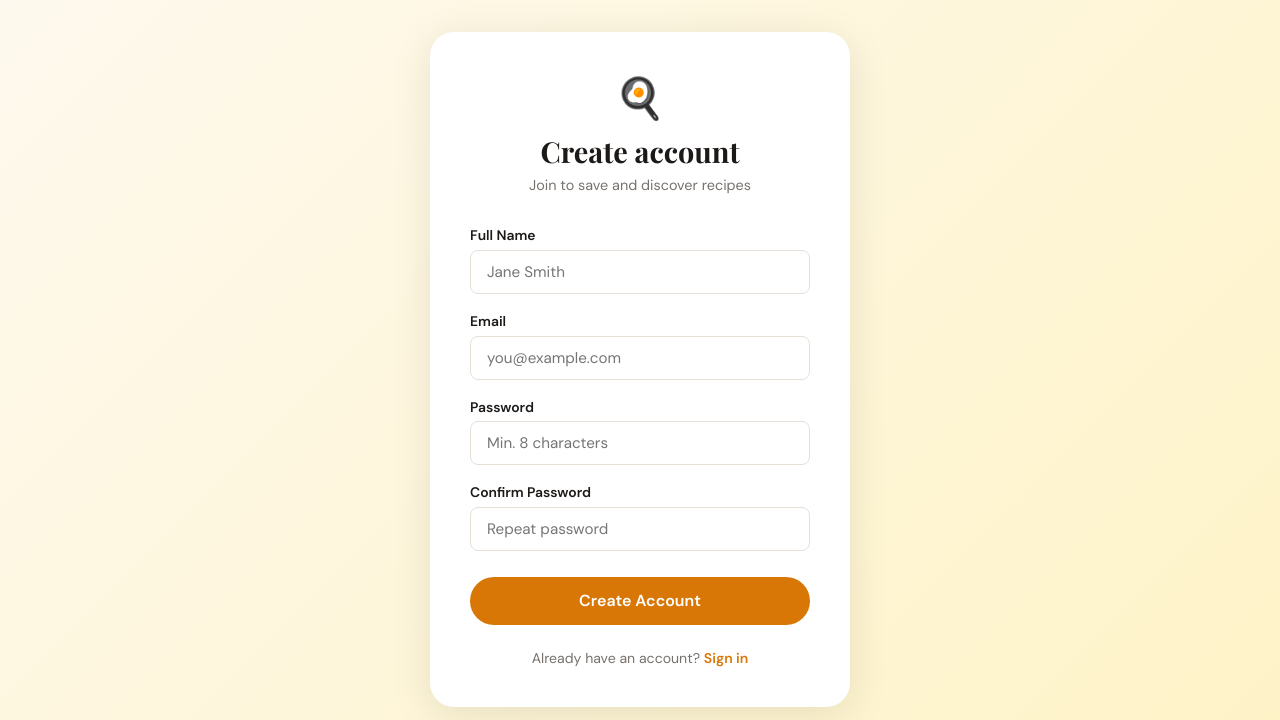
Test: Register Form › shows validation errors when passwords do not match
In the field labelled "Full Name": point(640, 272) x1=470 y1=250 x2=810 y2=294, type "Test"
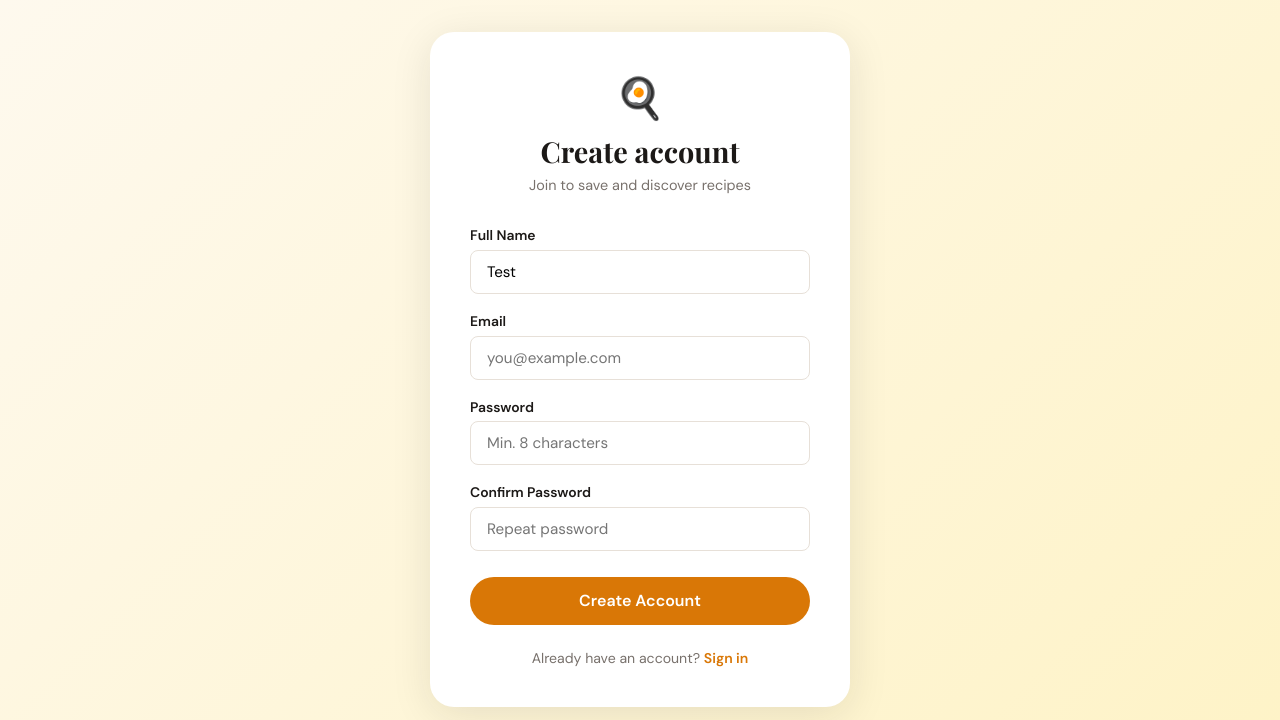
In the field labelled "Email": point(640, 358) x1=470 y1=336 x2=810 y2=380, type "test@test.com"
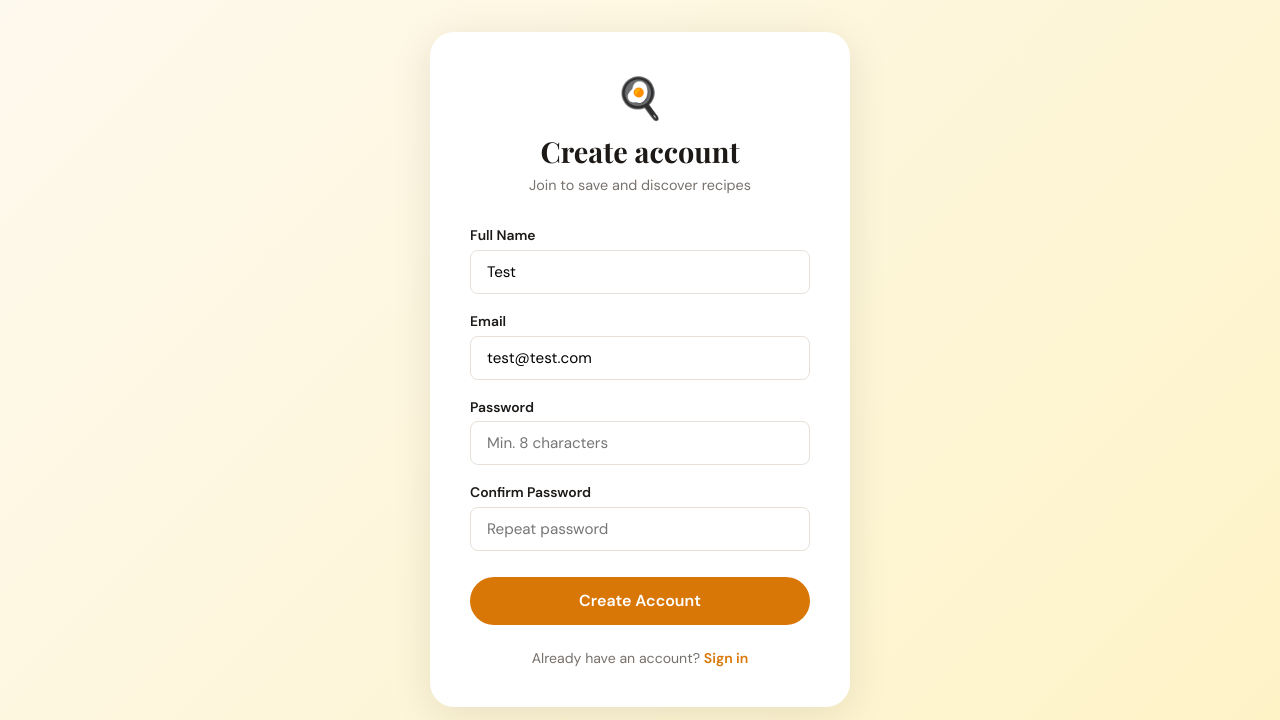
In the password field labelled "Password": point(640, 443) x1=470 y1=421 x2=810 y2=466, type "password1"
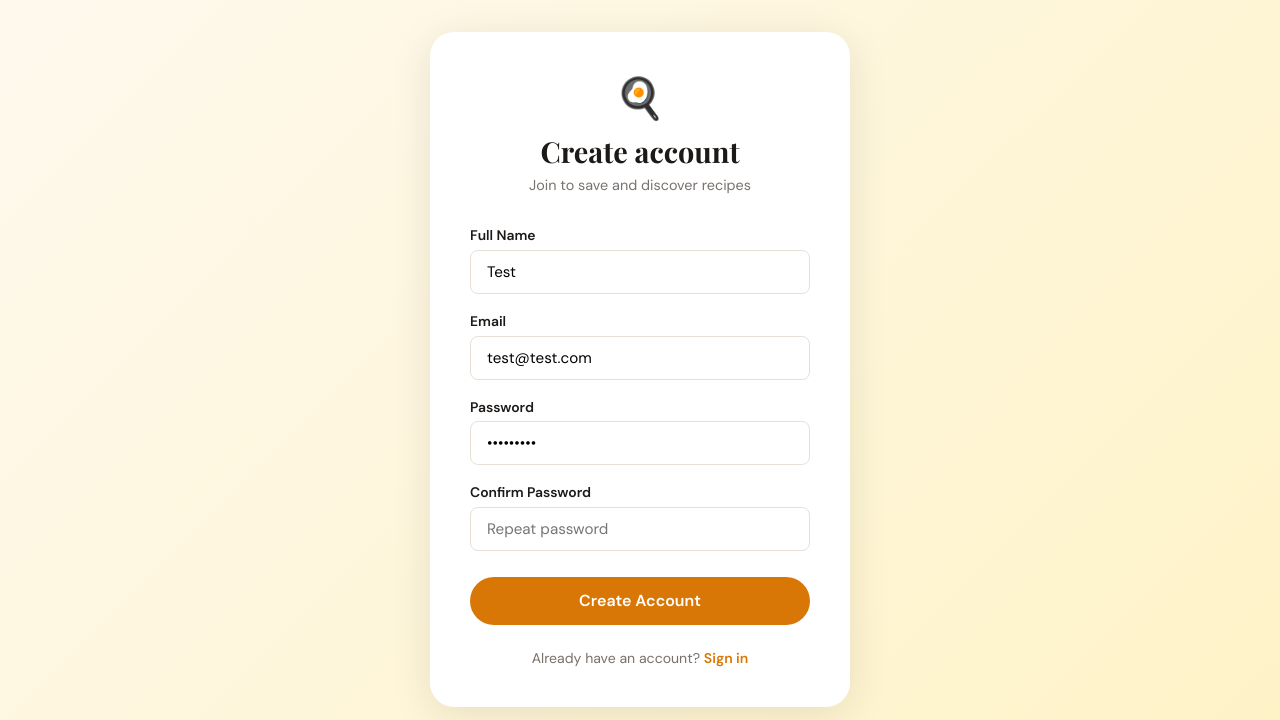
In the password field labelled "Confirm Password": point(640, 529) x1=470 y1=507 x2=810 y2=551, type "password2"
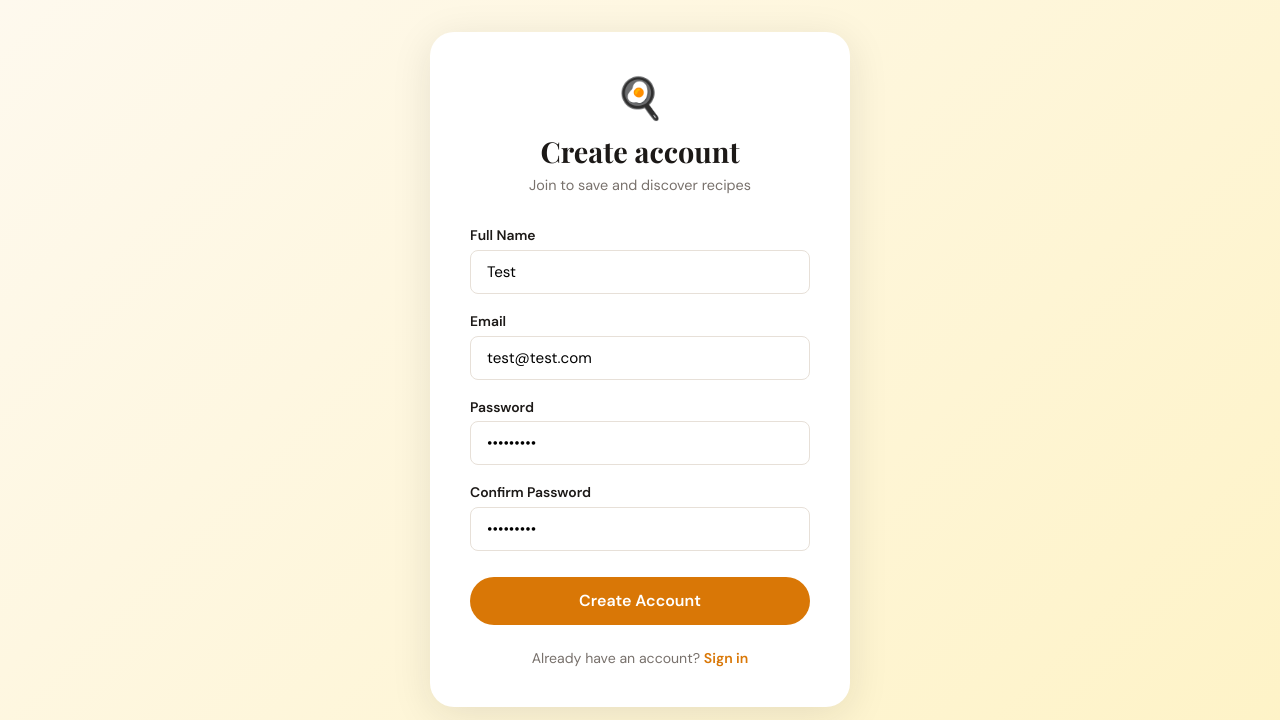
Click the button "Create Account": point(640, 601) x1=470 y1=577 x2=810 y2=625
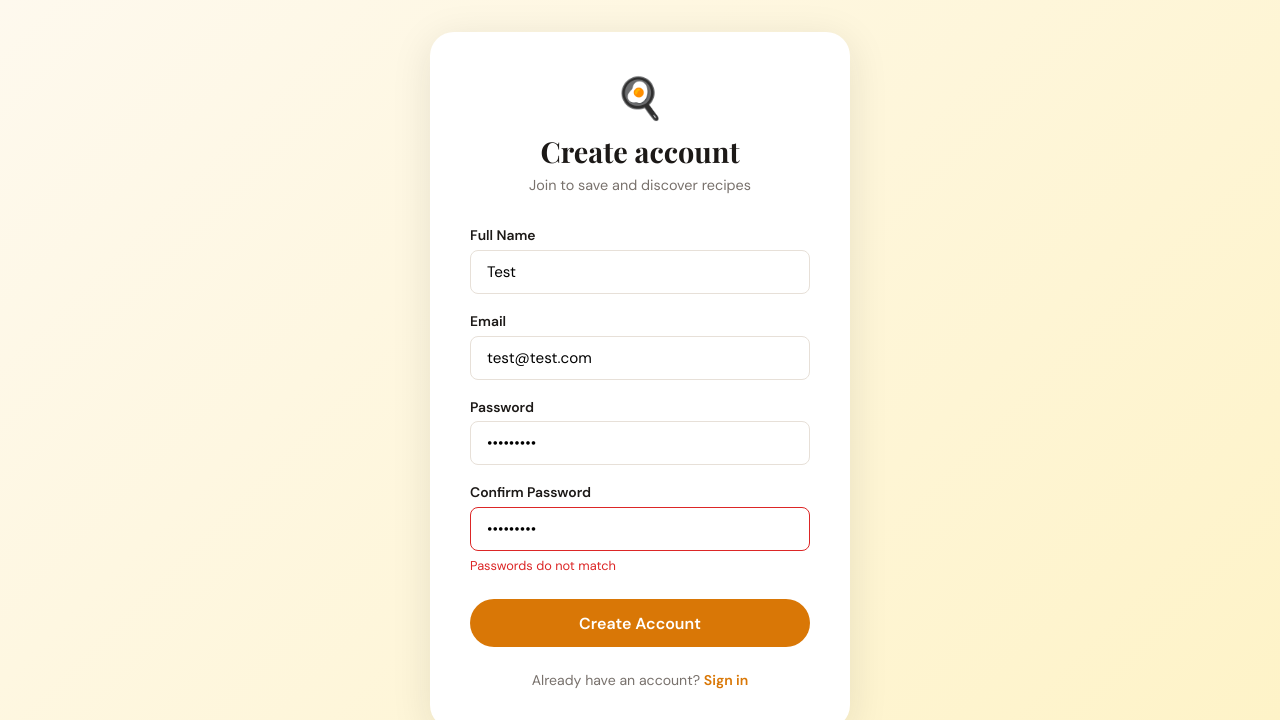
Expected: the text "Passwords do not match" is shown, x1=470 y1=557 x2=616 y2=574
